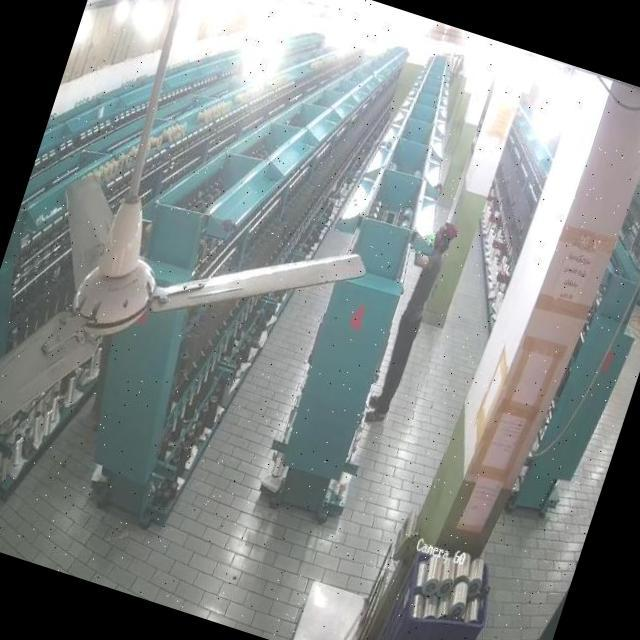person: (362, 210, 462, 432)
